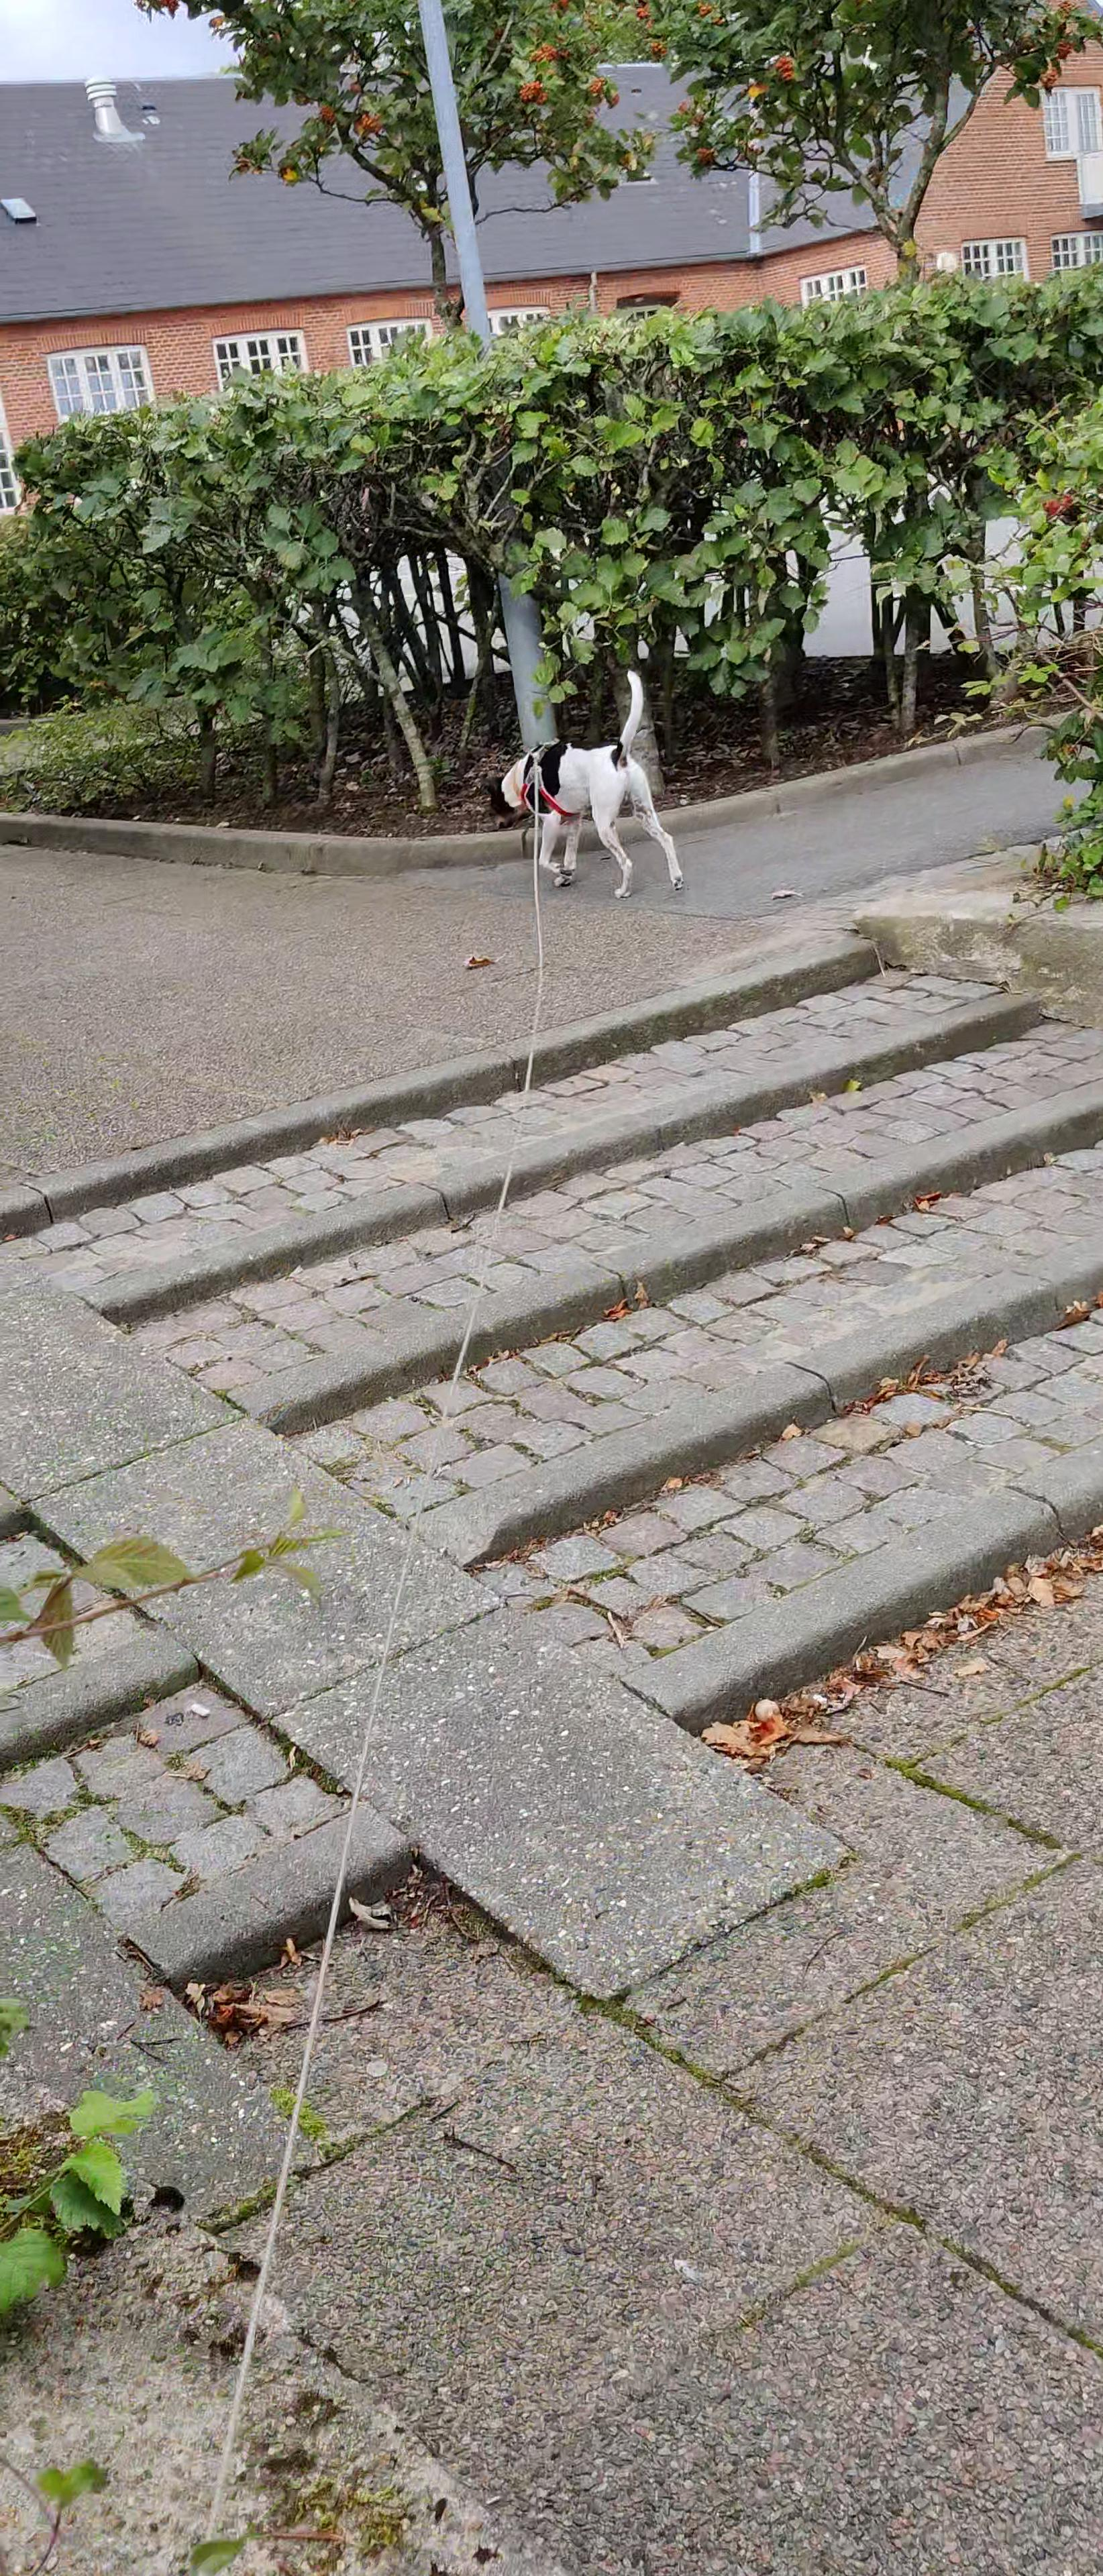Dog: (475, 662, 704, 918)
